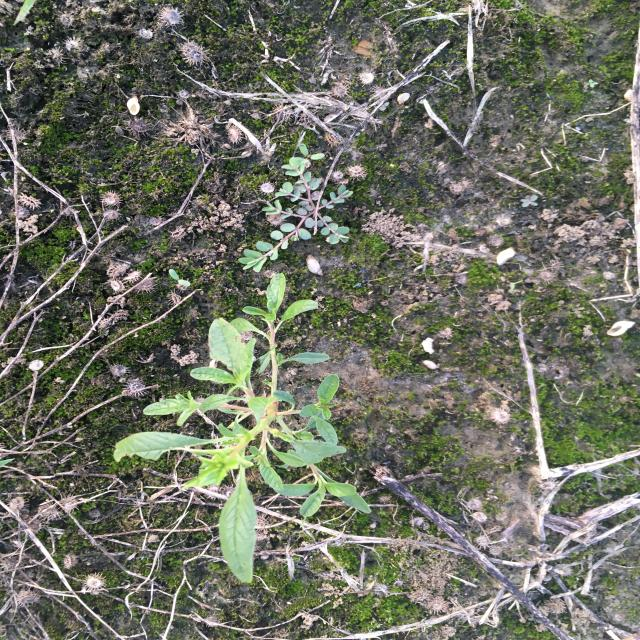SpottedSpurge: (236, 143, 356, 274)
Waterhemp: (112, 271, 374, 584)
